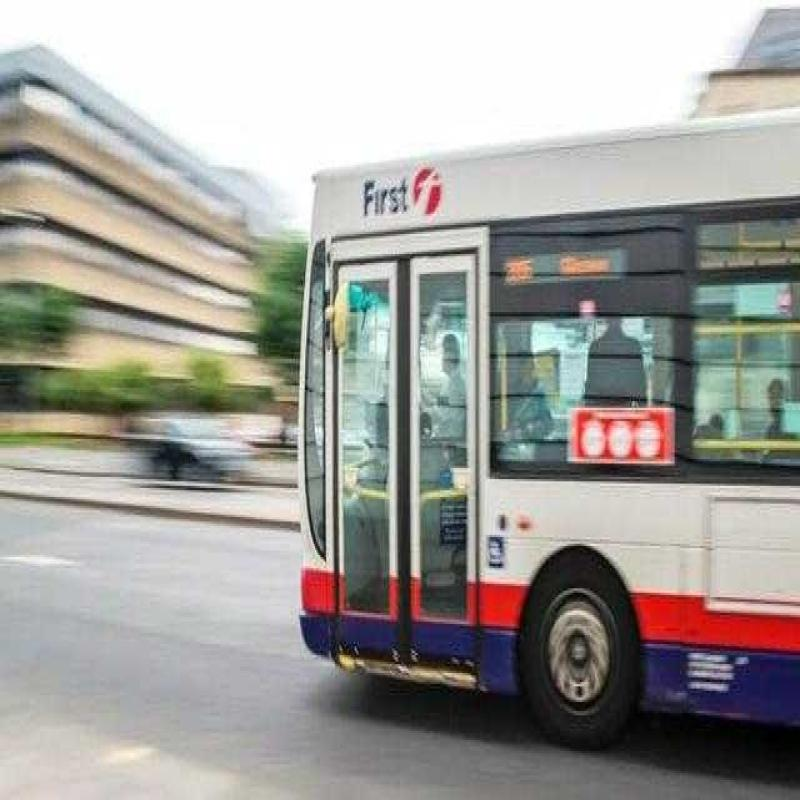bus: (289, 127, 800, 773)
